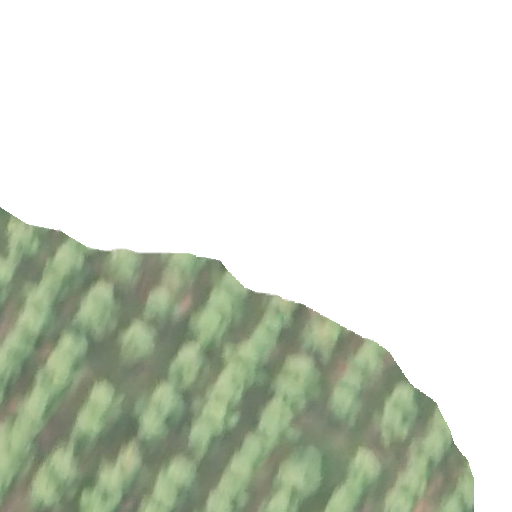eucalipto: (279, 449, 324, 498), (383, 386, 420, 440), (170, 344, 208, 391), (29, 458, 65, 505), (306, 315, 343, 360), (48, 444, 86, 487), (83, 286, 115, 337), (150, 383, 187, 427), (328, 382, 365, 426), (23, 291, 59, 333), (120, 321, 156, 363), (425, 409, 453, 462), (346, 449, 385, 487), (270, 376, 311, 412), (209, 287, 247, 324), (201, 400, 240, 436), (189, 310, 229, 345), (89, 383, 123, 424), (214, 366, 251, 403), (259, 400, 295, 438), (236, 334, 276, 368), (284, 353, 324, 387), (154, 467, 187, 508), (263, 295, 299, 332), (218, 467, 255, 503), (356, 338, 387, 380), (72, 403, 106, 441), (321, 482, 363, 512), (111, 245, 141, 286), (9, 224, 43, 260), (53, 246, 87, 282), (144, 282, 175, 321), (136, 413, 172, 445), (168, 456, 200, 492), (40, 271, 73, 305), (238, 433, 272, 466), (29, 387, 59, 424), (217, 271, 253, 301), (79, 487, 124, 510), (3, 331, 35, 363), (55, 334, 90, 363), (97, 462, 129, 493), (341, 358, 371, 391), (118, 442, 144, 480), (160, 263, 191, 293), (14, 315, 43, 347), (395, 468, 427, 497), (402, 442, 431, 474), (229, 453, 260, 482), (204, 485, 237, 512), (382, 485, 415, 512), (263, 487, 296, 512), (48, 353, 76, 382), (138, 492, 178, 512), (436, 492, 468, 512)
